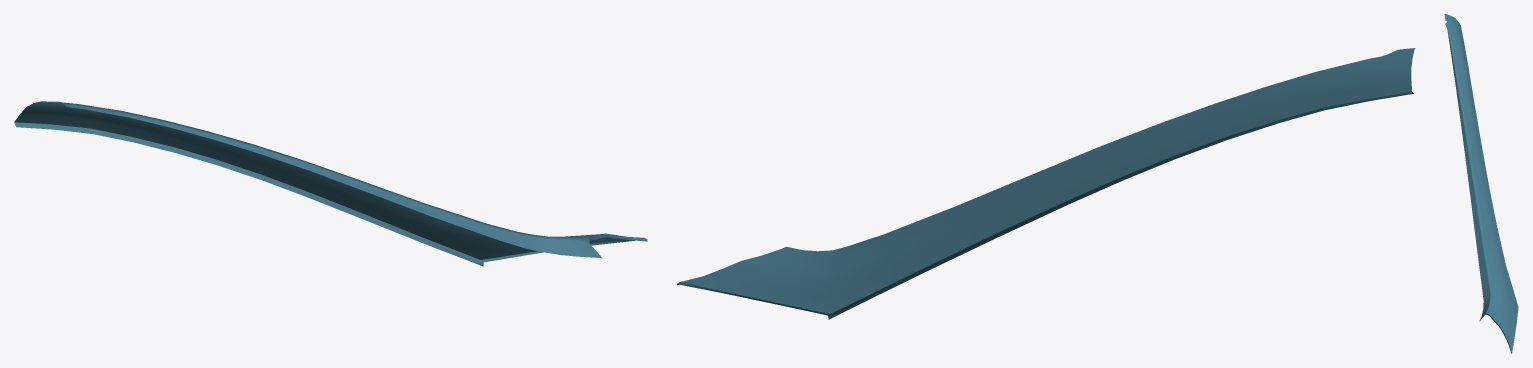
3 views of the same model, side by side, from view 1: azimuth 30°, elevation 25°; view 2: azimuth 150°, elevation 25°; view 3: azimuth 270°, elevation 25° (orthographic). The views are drawn at different scales.
Parts seen in each view (by area): view 1: Y175_18_181C_L_1_DaS_Y175_18_181C_L, Y175_18_181C_L_1_DaS_Y175_18_181C_L_E; view 2: Y175_18_181C_L_1_DaS_Y175_18_181C_L, Y175_18_181C_L_1_DaS_Y175_18_181C_L_E; view 3: Y175_18_181C_L_1_DaS_Y175_18_181C_L, Y175_18_181C_L_1_DaS_Y175_18_181C_L_E.
Part boxes in pixels (x1,y1,x2,y2): Y175_18_181C_L_1_DaS_Y175_18_181C_L: (14,101,625,259); Y175_18_181C_L_1_DaS_Y175_18_181C_L_E: (14,105,647,266); Y175_18_181C_L_1_DaS_Y175_18_181C_L: (680,48,1415,313); Y175_18_181C_L_1_DaS_Y175_18_181C_L_E: (676,92,1413,319); Y175_18_181C_L_1_DaS_Y175_18_181C_L: (1444,14,1518,350); Y175_18_181C_L_1_DaS_Y175_18_181C_L_E: (1445,25,1514,353).
Size of the model in its own units: 95.92 by 47.15 by 17.97.
